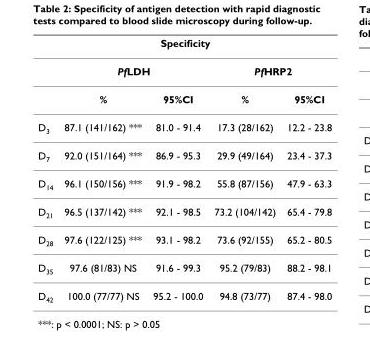table: (37, 36, 331, 303)
table column: (58, 36, 146, 303), (207, 36, 280, 303), (146, 36, 207, 303), (280, 36, 331, 303), (37, 36, 58, 303)
table column header: (37, 36, 331, 112)
table row: (37, 112, 331, 141), (37, 169, 331, 198), (37, 56, 331, 84), (37, 84, 331, 112), (37, 141, 331, 169), (37, 198, 331, 226), (37, 226, 331, 254), (37, 254, 331, 282), (37, 282, 331, 303), (37, 36, 331, 56)
table spanning cell: (37, 36, 331, 56), (58, 56, 207, 84), (207, 56, 331, 84)
